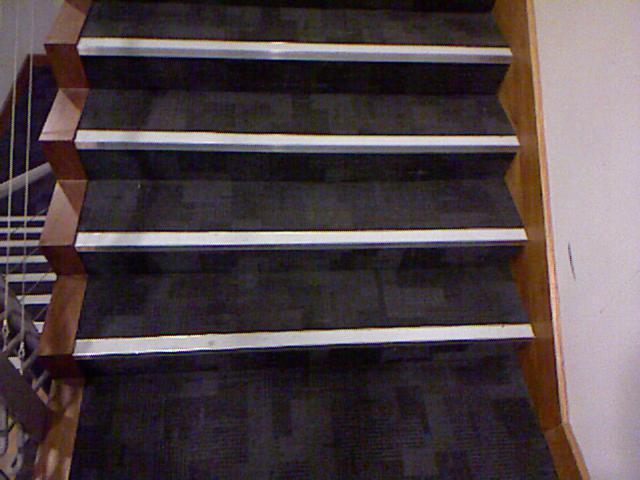Escaleras: (44, 0, 548, 405), (0, 208, 51, 479)
